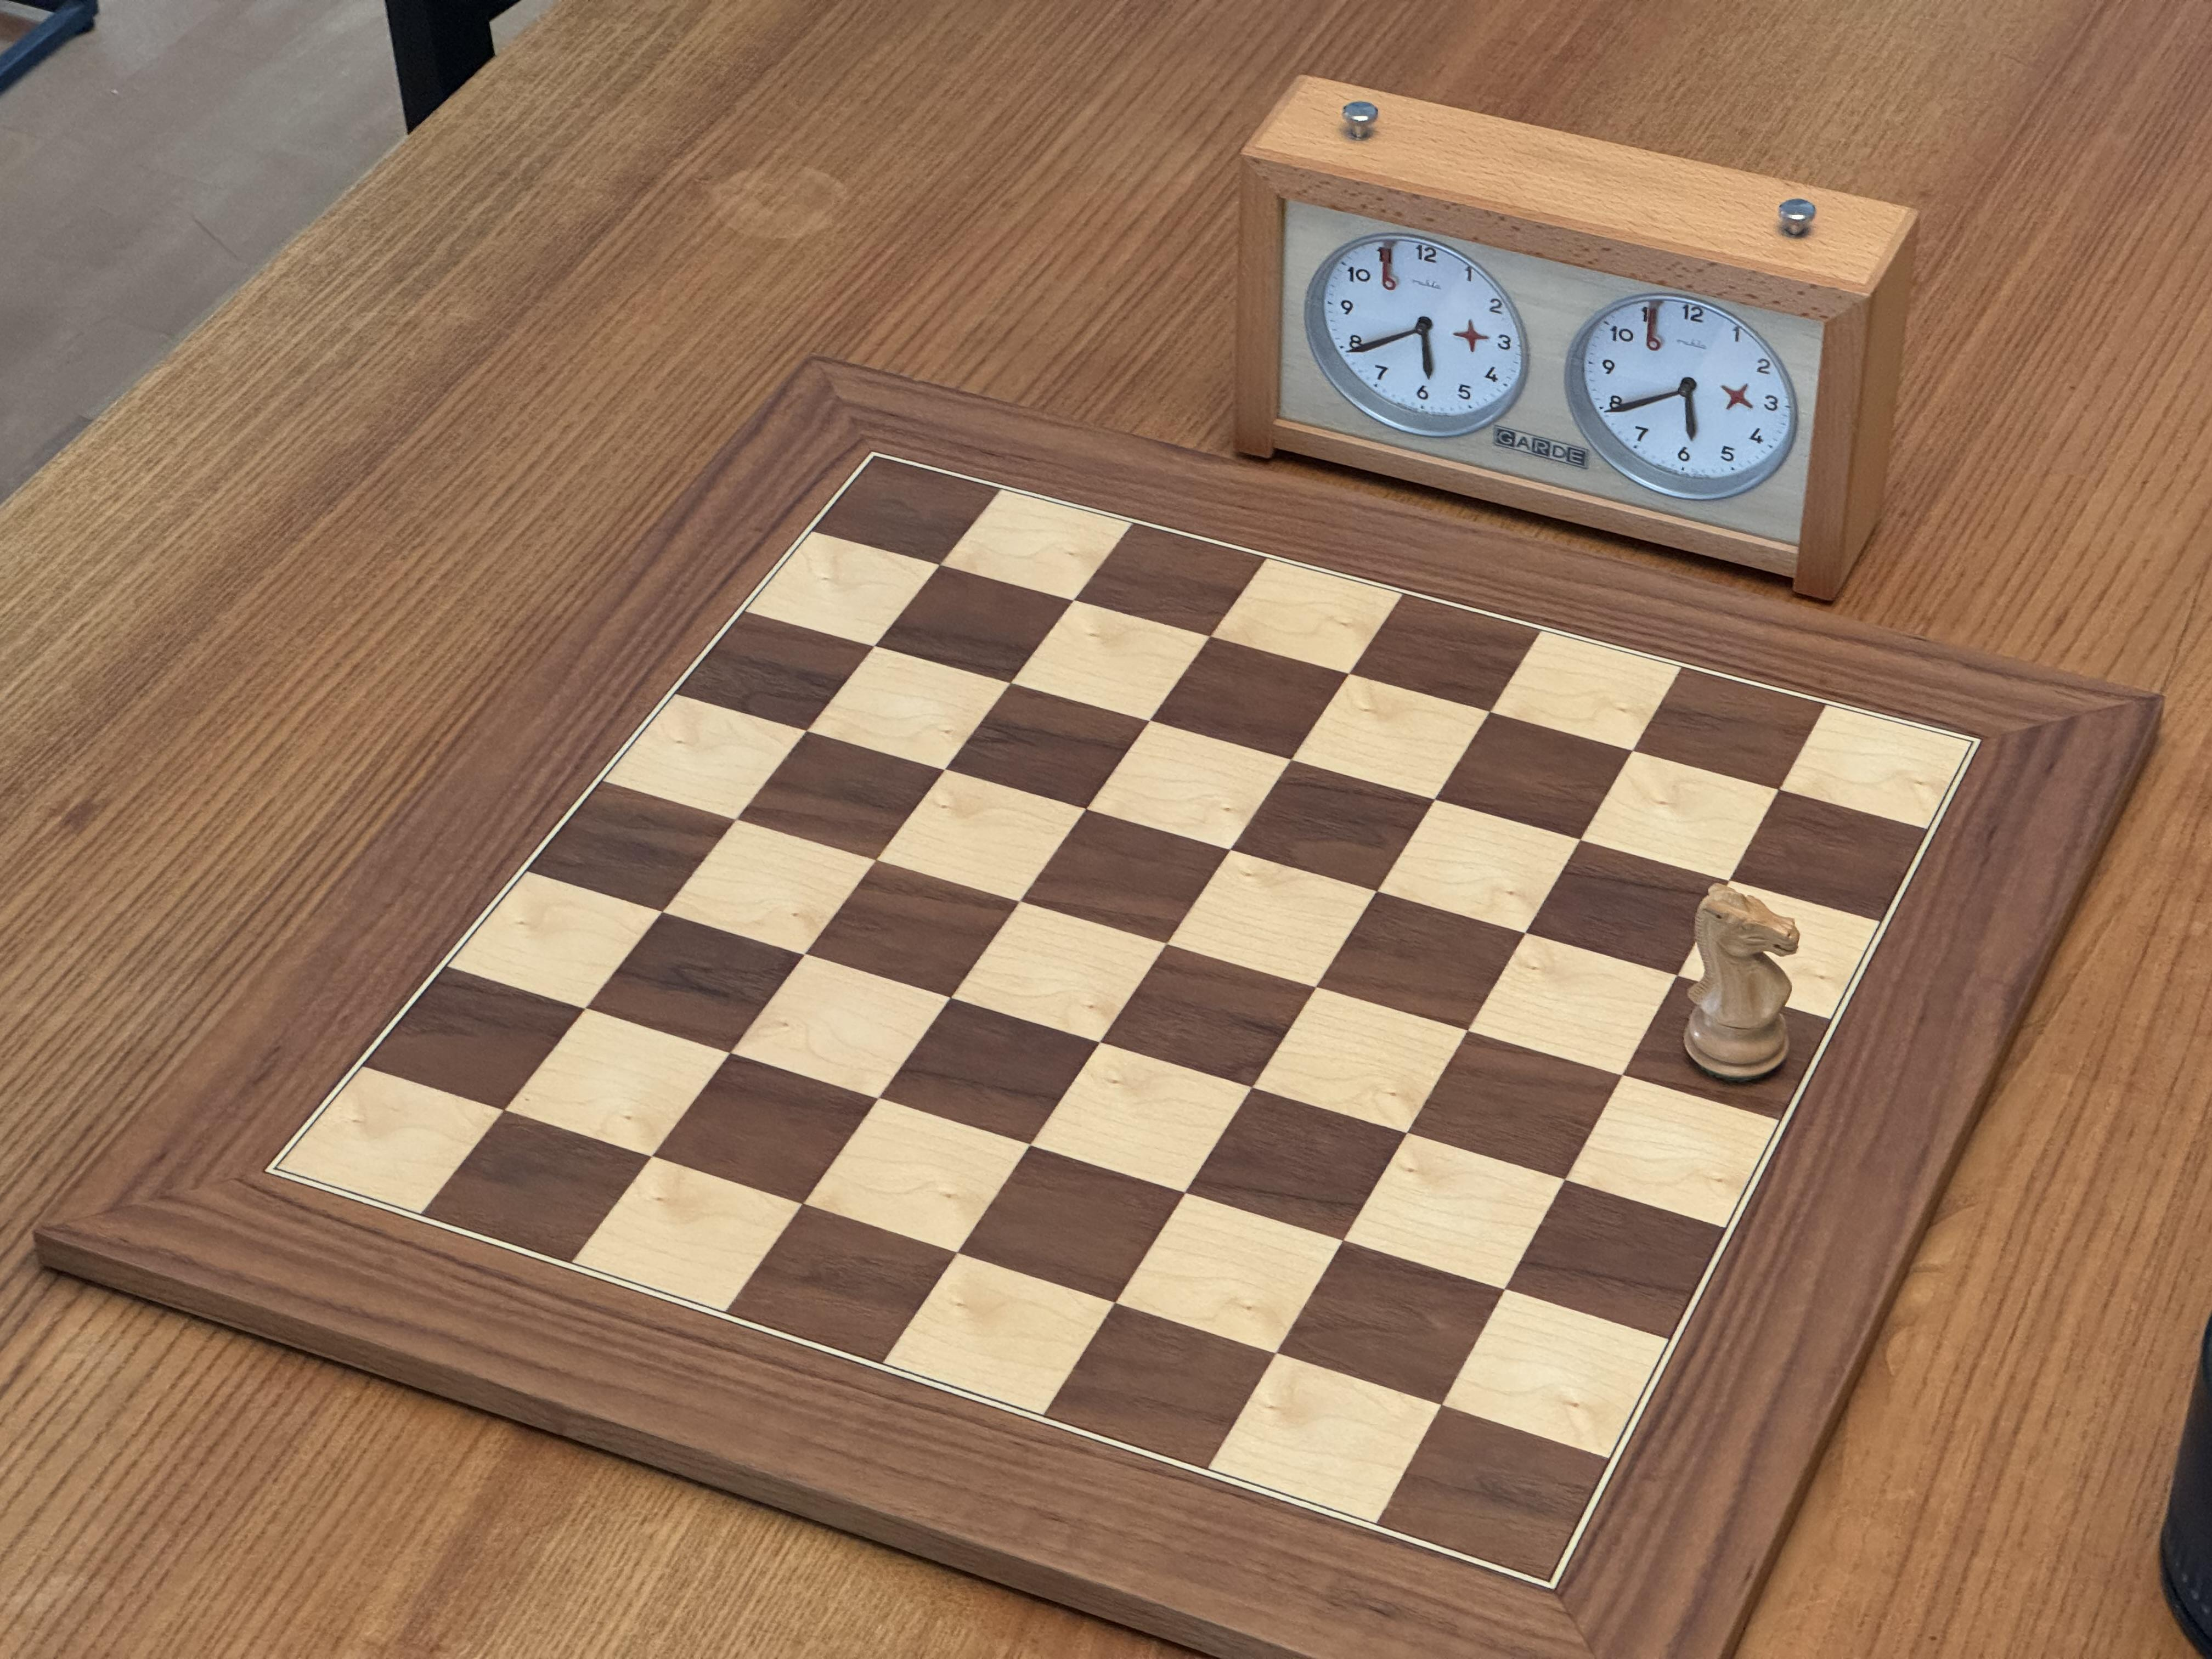White Knight: (1679, 873, 1804, 1093)
